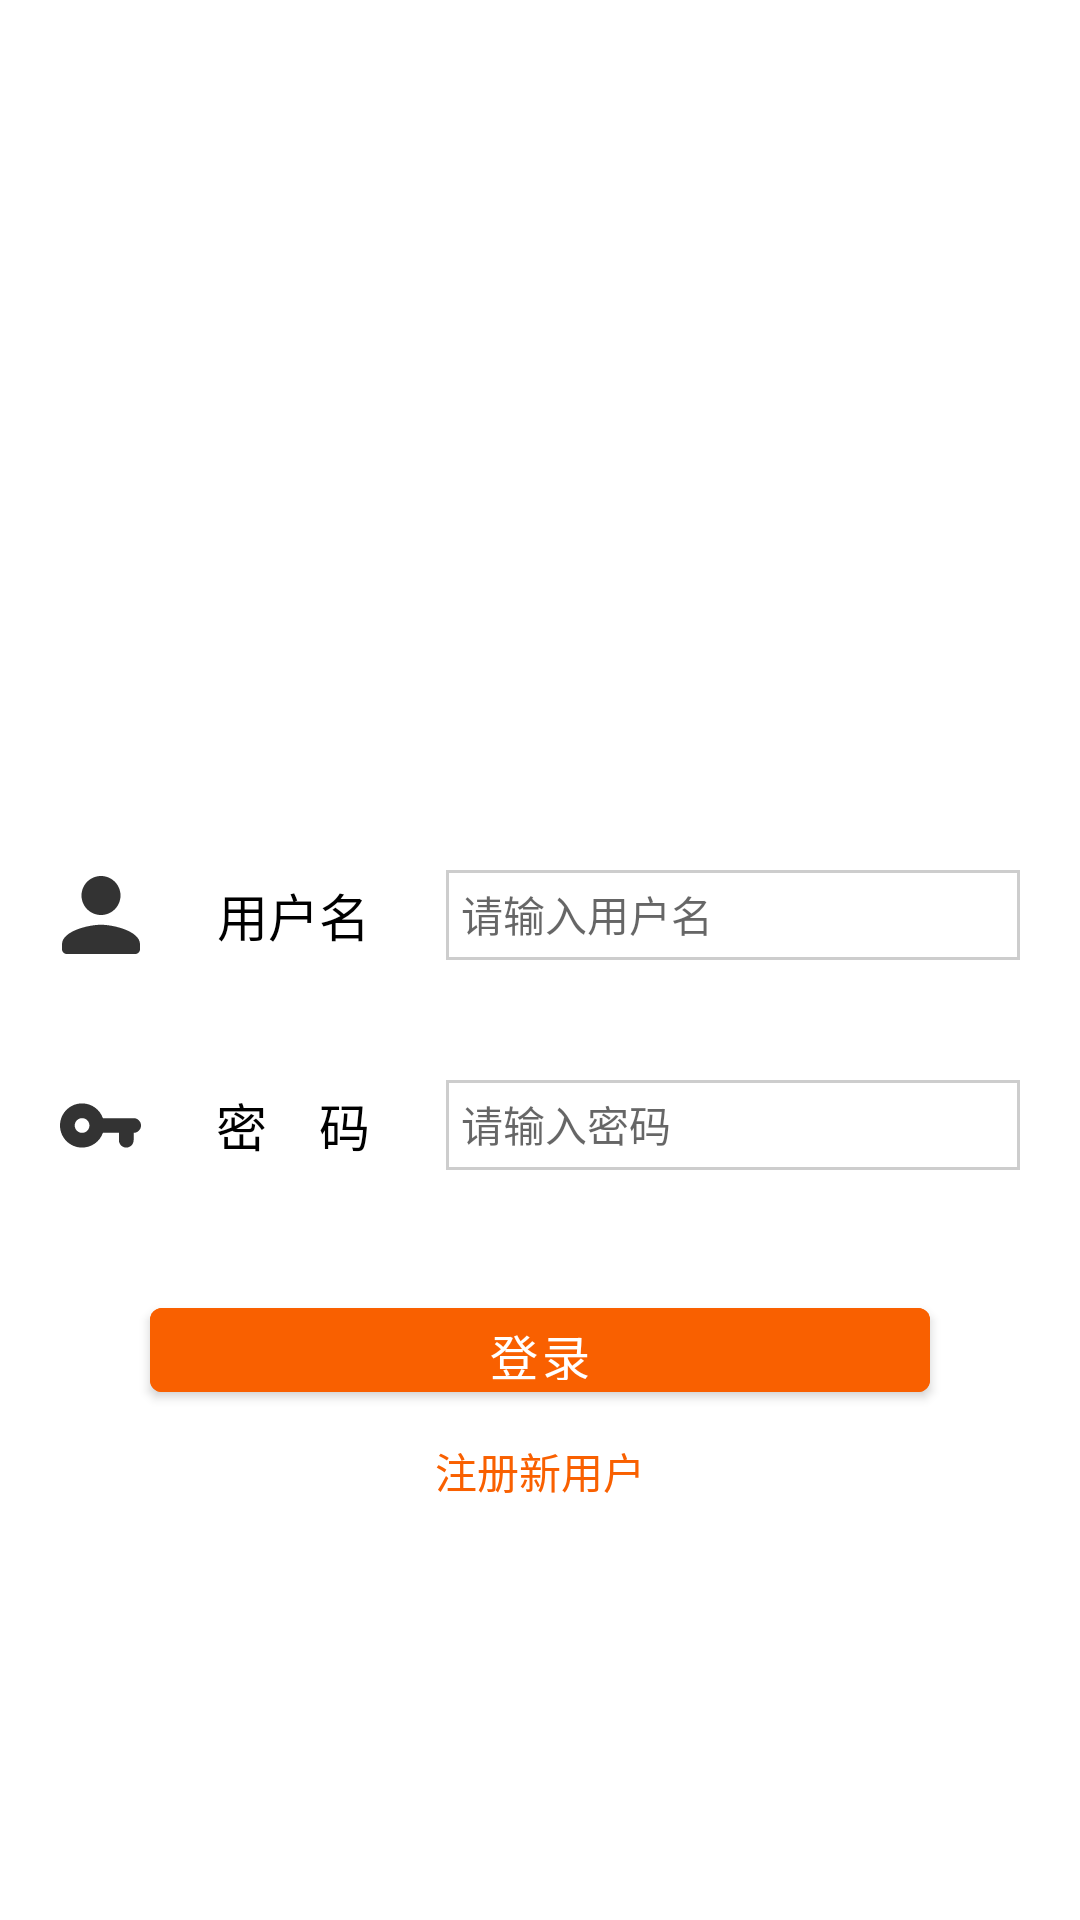

Icons on this 1080px x 1920px Android screen, each with its box as (x1, y1, x2, y2):
password: (60, 1103, 141, 1148)
person: (62, 876, 140, 954)
